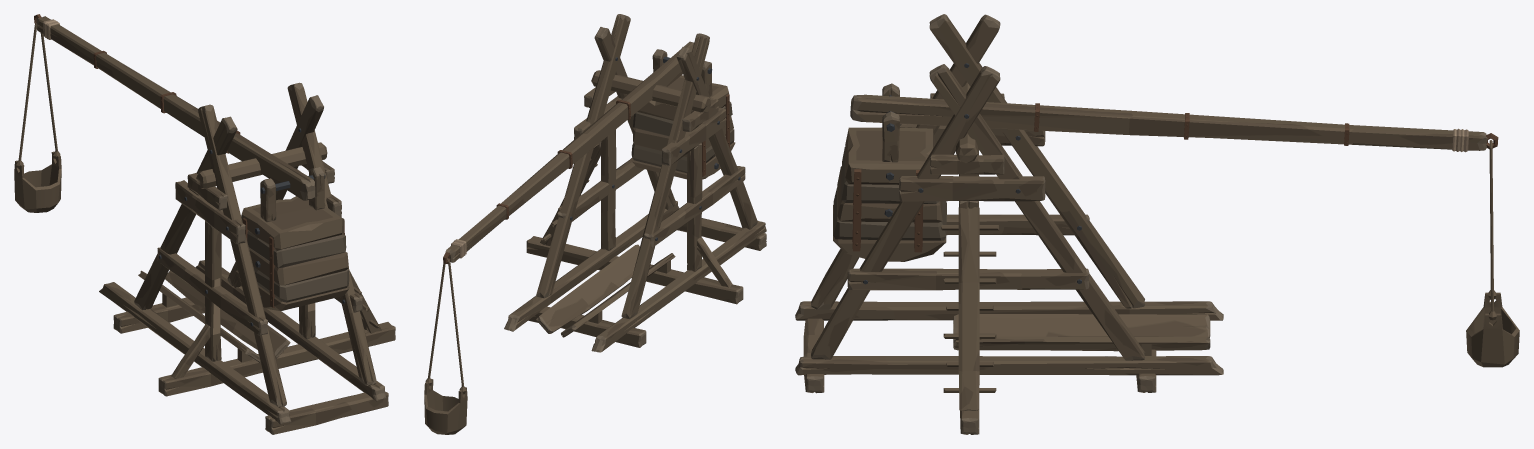
File: kn_trebuchet.gltf
3 renders of one model, left to right at view 1: azimuth 30°, elevation 25°; view 2: azimuth 150°, elevation 25°; view 3: azimuth 270°, elevation 25°, orthographic. The views are drawn at different scales.
Visible parts, largest first — view 1: kn_trebuchet; view 2: kn_trebuchet; view 3: kn_trebuchet.
Boxes of the visible parts, x1=… form: kn_trebuchet: x1=14, y1=14, x2=395, y2=434; kn_trebuchet: x1=424, y1=14, x2=766, y2=434; kn_trebuchet: x1=795, y1=14, x2=1519, y2=434.
Bounding box in the file's own units: 5.2 × 5.84 × 12.03.
Materials: 1 (1 with a texture image).
